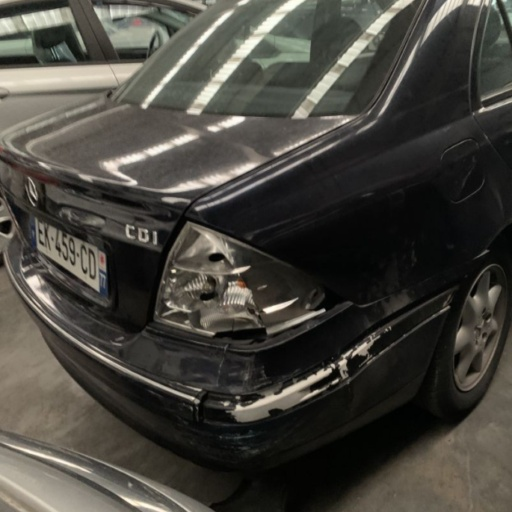dent: (122, 325, 310, 388)
rust: (381, 289, 413, 319), (366, 322, 377, 330)
scratch: (243, 206, 322, 241), (216, 428, 263, 460), (229, 375, 272, 395), (457, 155, 475, 196), (229, 367, 268, 381), (360, 191, 374, 197)
